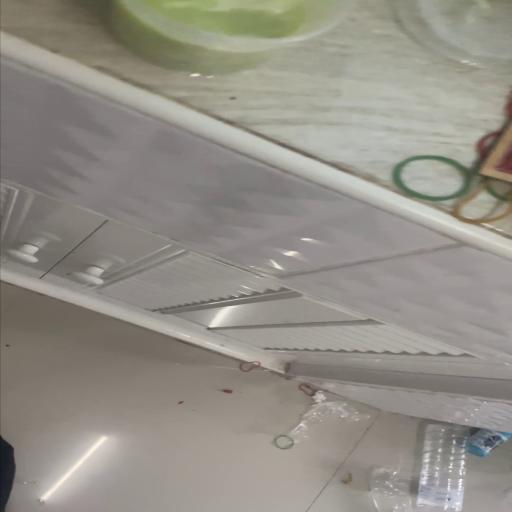street_golden_defect: (0, 0, 508, 260)
